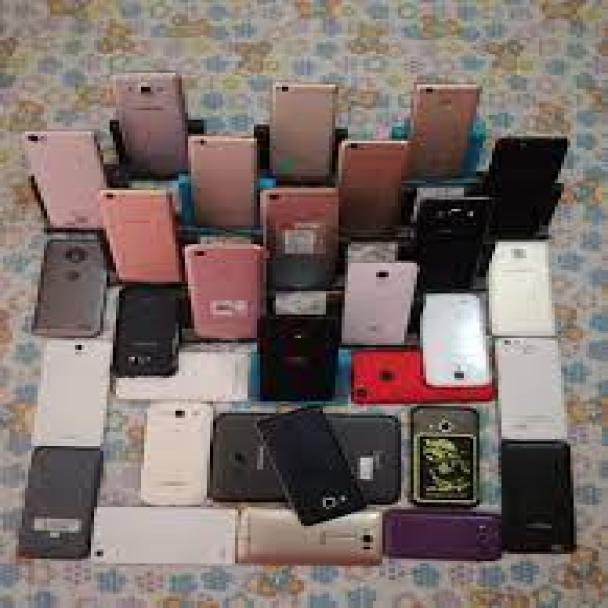Handphone: (15, 129, 104, 227), (503, 445, 578, 551), (114, 70, 188, 168), (491, 139, 565, 232), (185, 248, 261, 338), (409, 406, 479, 502), (147, 403, 212, 506), (268, 81, 334, 177), (115, 190, 179, 284), (344, 261, 414, 346), (343, 138, 406, 226), (413, 84, 474, 174), (417, 198, 478, 286), (190, 138, 252, 223)
